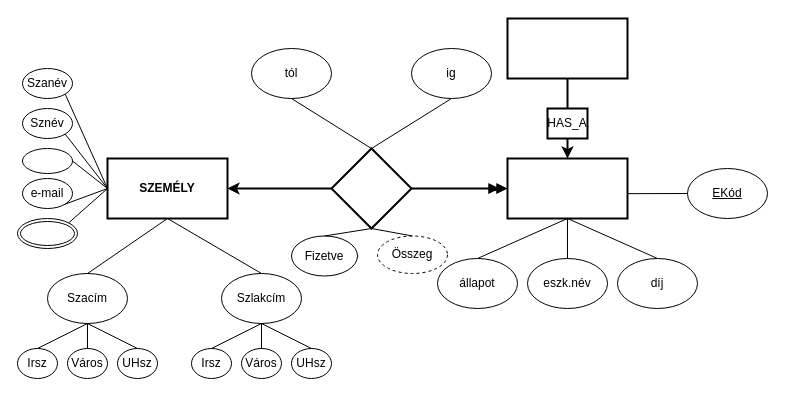
Some shapes in this 785 by 396 pixel diagram are drawn without their labels. Each missing label, with the centre of its shape:
"Csónakház" belongs at point 567,48.
"ESZKÖZ" belongs at point 567,188.
"KÖLCSÖN" belongs at point 371,188.
"SzKód" belongs at point 47,161.
"Telefon.sz" belongs at point 47,233.
